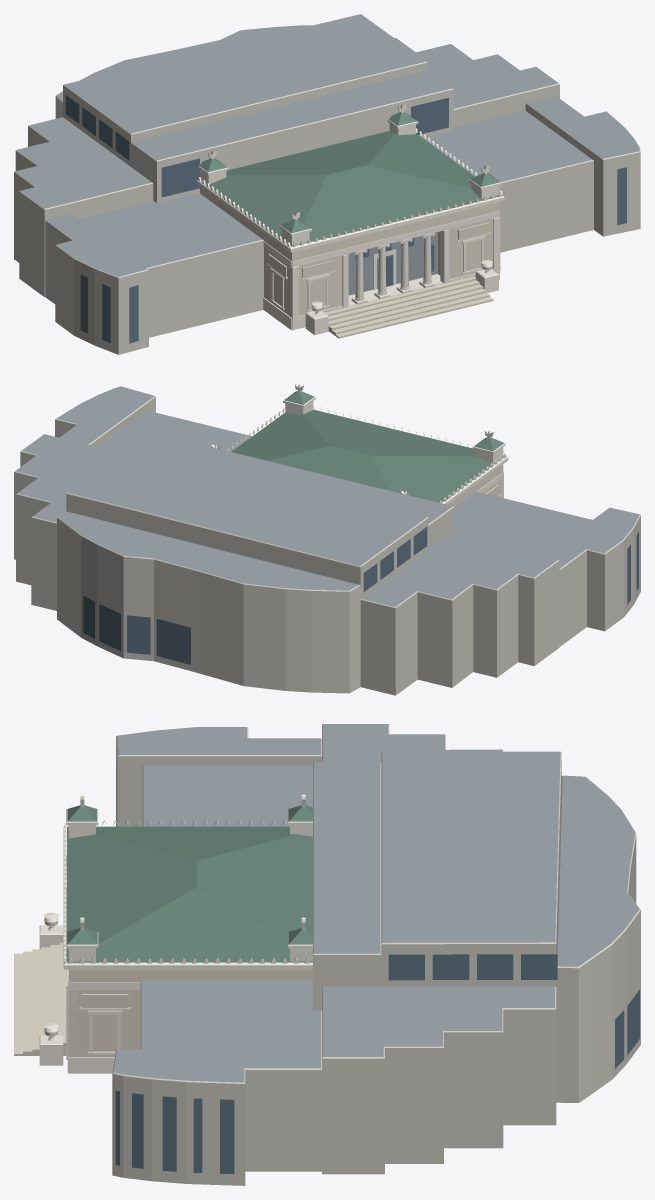
Rendered from nola-noma.glb.
3 renders of one model, top to bottom at view 1: azimuth 30°, elevation 25°; view 2: azimuth 150°, elevation 25°; view 3: azimuth 270°, elevation 25°, orthographic. The views are drawn at different scales.
Parts seen in each view (by area): view 1: New Orleans Museum of Art; view 2: New Orleans Museum of Art; view 3: New Orleans Museum of Art.
Part boxes in pixels (bbox=[...]): New Orleans Museum of Art: bbox=[14, 14, 640, 354]; New Orleans Museum of Art: bbox=[14, 383, 640, 695]; New Orleans Museum of Art: bbox=[14, 724, 640, 1185].
Size of the model in its own units: 92.6 by 19.35 by 68.8.
